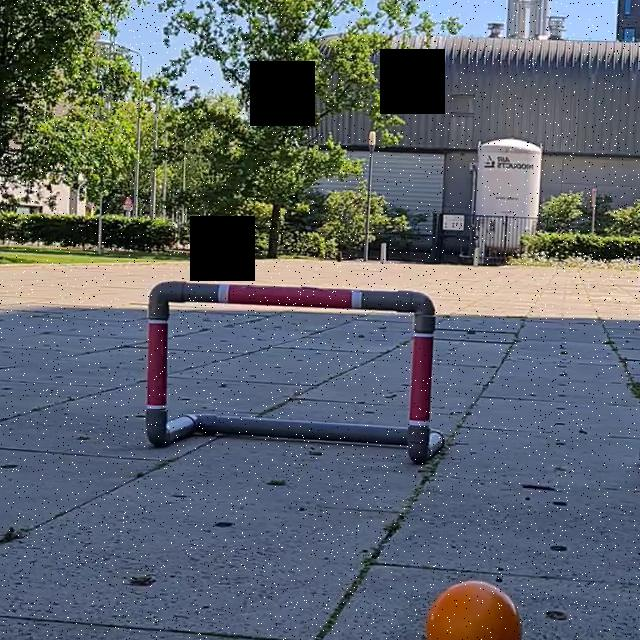ball: (418, 578, 526, 640)
